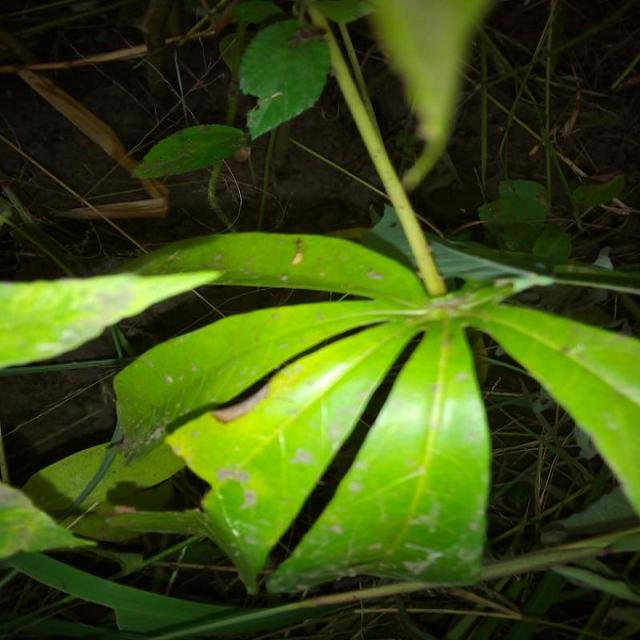cassava leaf: (1, 220, 638, 596), (264, 313, 492, 595)
